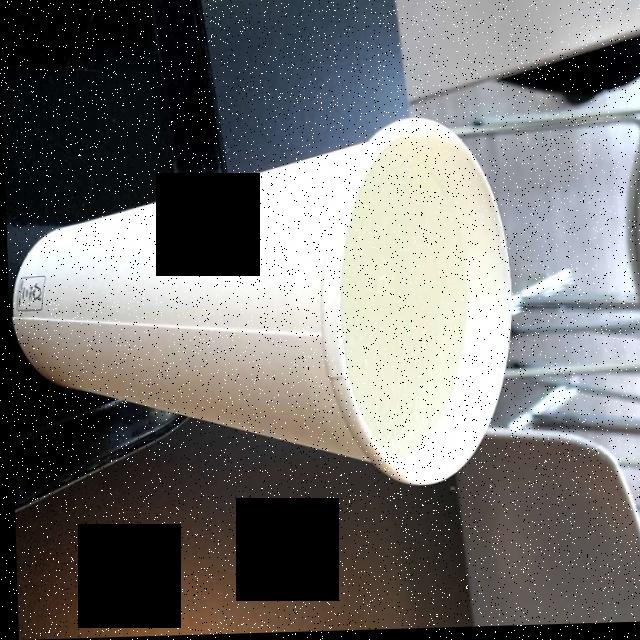water-mineral: (338, 157, 473, 452)
